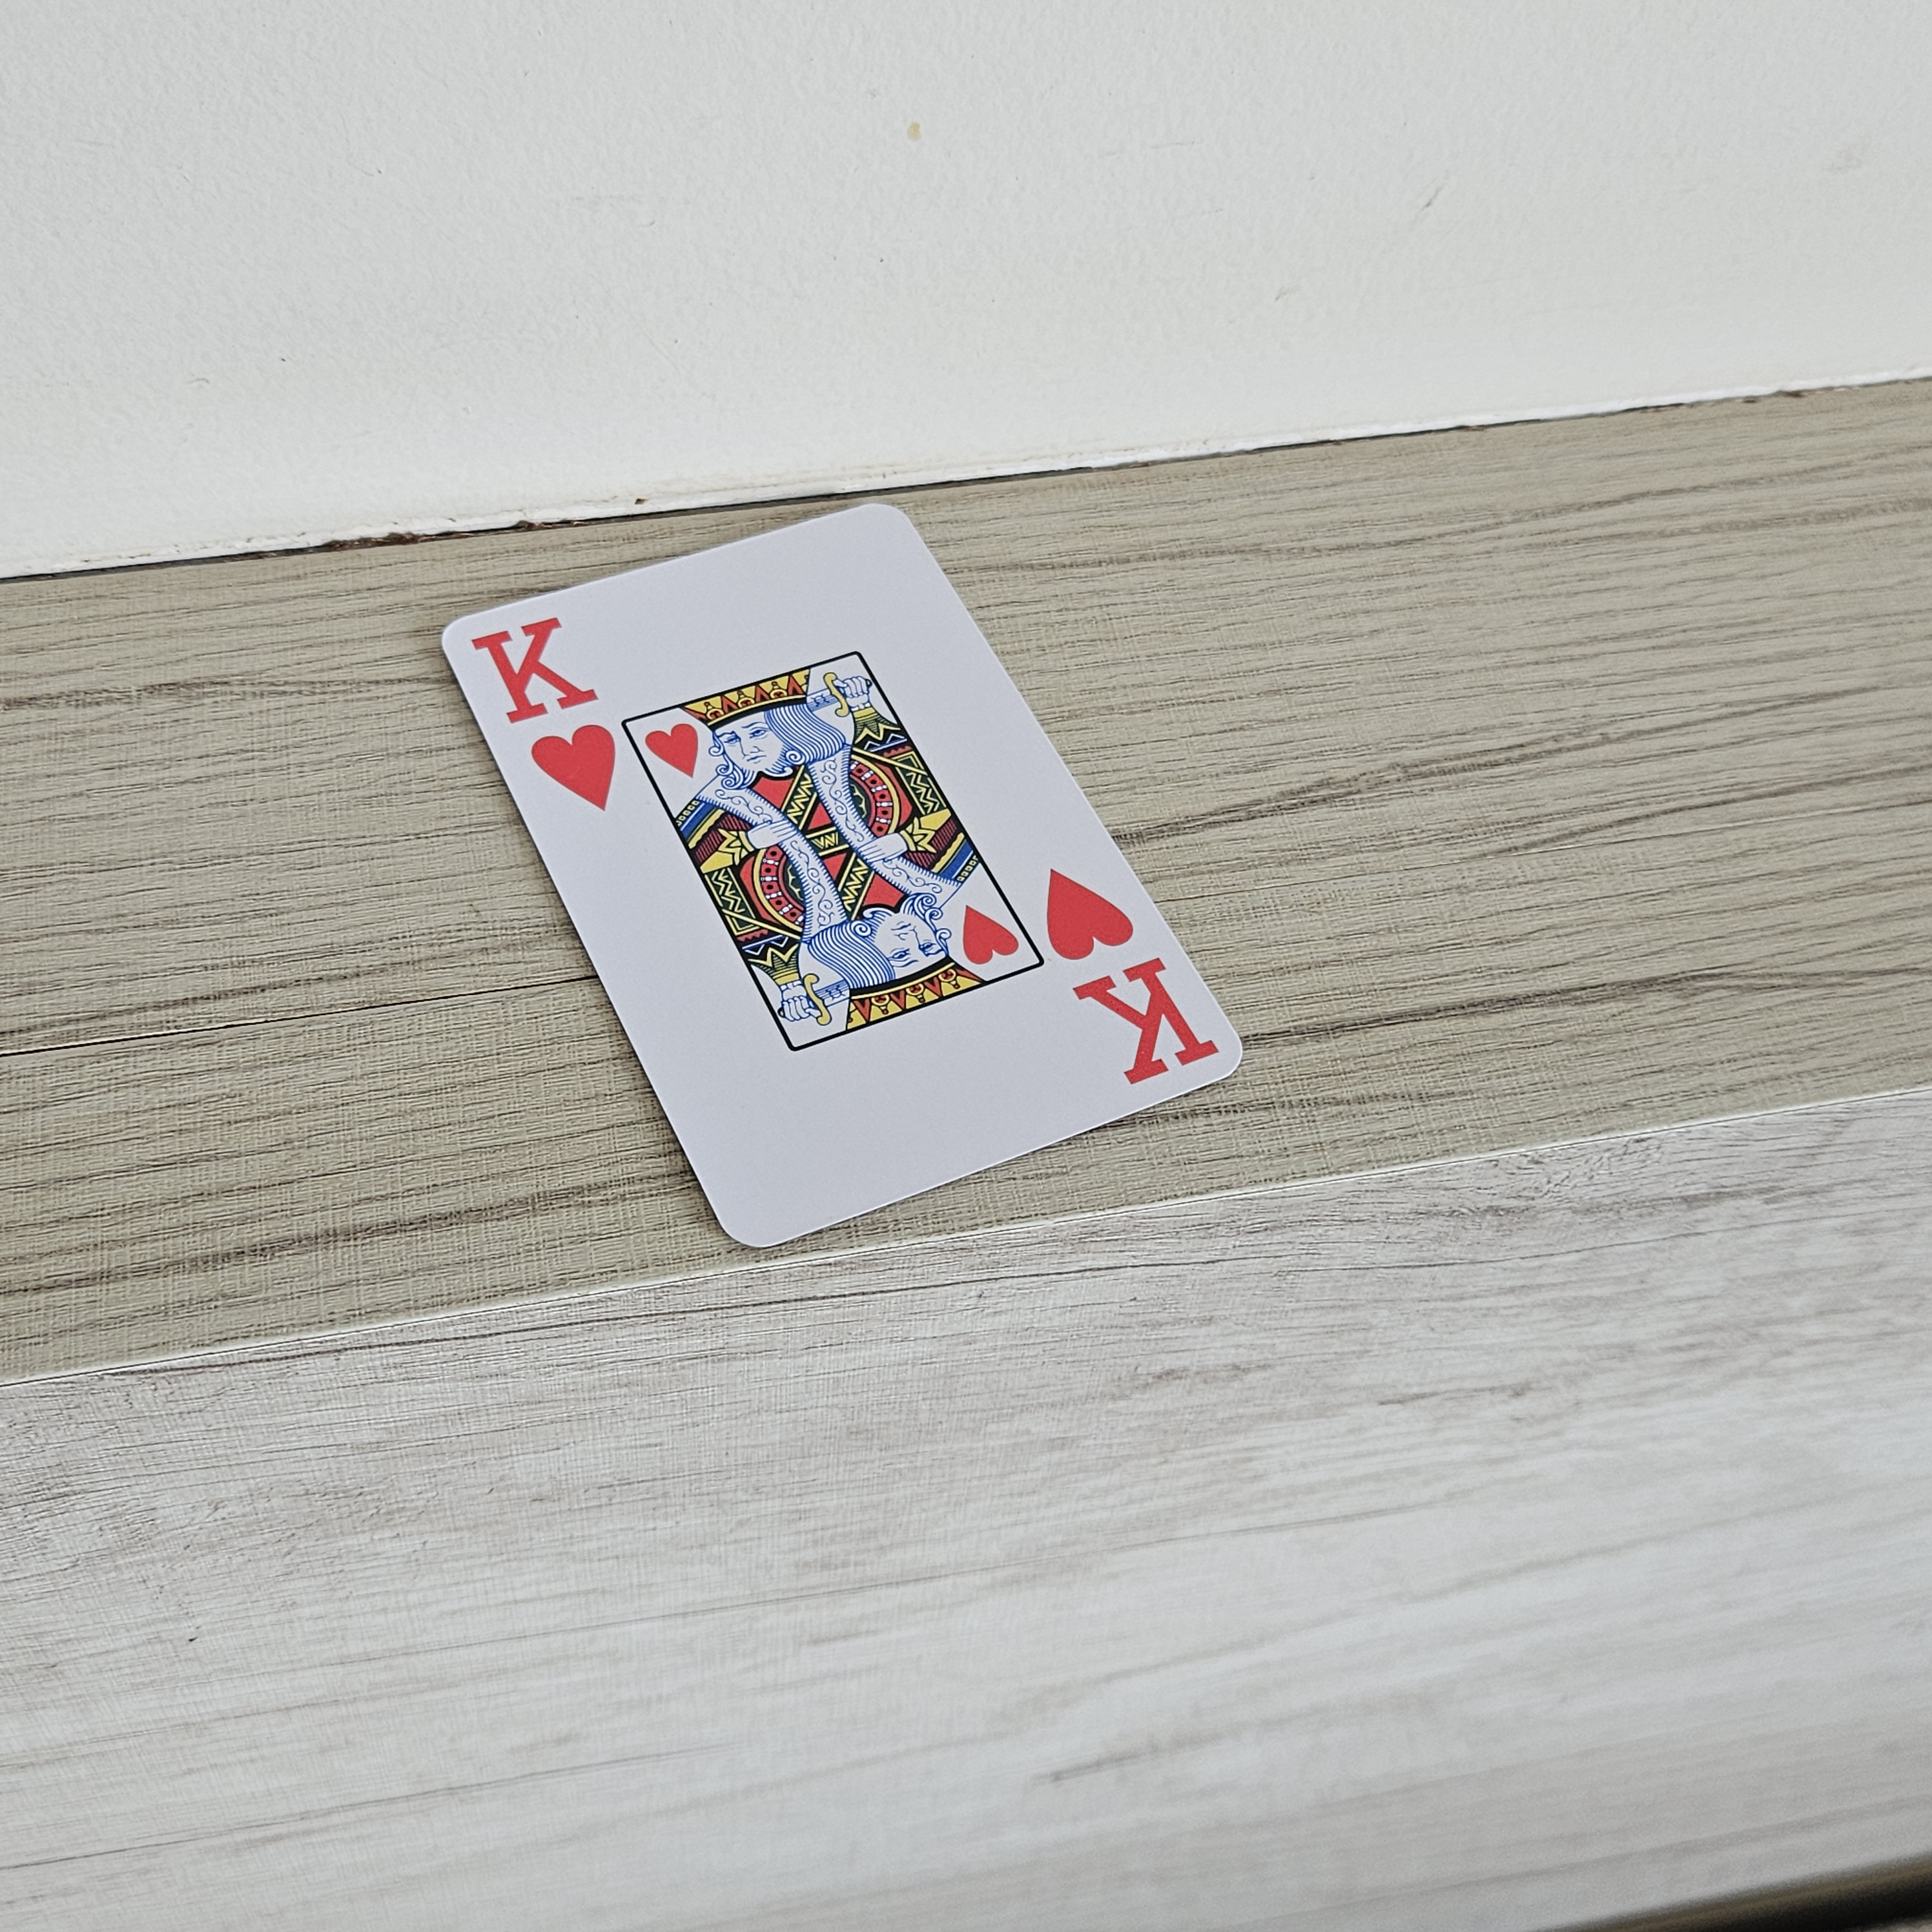KC: (1031, 849, 1224, 1095), (453, 600, 632, 832)
